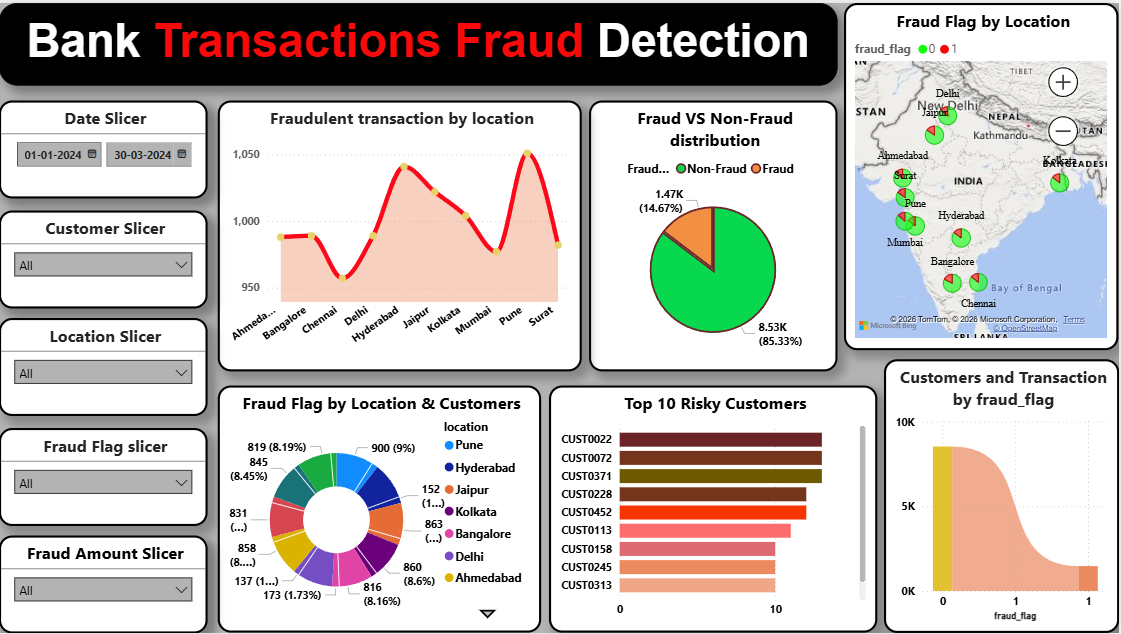

What the dashboard file says about the page in this screenshot:
{"tool":"powerbi","page":{"name":"Page 1","canvas":[1280,720],"ordinal":0},"visuals":[{"type":"pieChart","title":"Fraud VS Non-Fraud  distribution","fields":{"Category":["bank_transactions.Fraud Label"],"Y":["CountNonNull(bank_transactions.transaction_id)"]},"box":[674.4,111.6,283.7,309.3],"z":0},{"type":"clusteredBarChart","title":"Top 10 Risky Customers","fields":{"Category":["bank_transactions.customer_id"],"Y":["Sum(bank_transactions.fraud_flag)"]},"box":[627.9,437.2,375.6,282.6],"z":1000},{"type":"lineChart","title":"Fraudulent transaction by location","fields":{"Category":["bank_transactions.location"],"Y":["CountNonNull(bank_transactions.transaction_id)"]},"box":[250,111.6,416.3,309.3],"z":2000},{"type":"slicer","title":"Date Slicer","fields":{"Values":["DateTable.Date"]},"box":[0,111.6,238.4,112],"z":3000},{"type":"slicer","title":"Customer Slicer","fields":{"Values":["bank_transactions.customer_id"]},"box":[0,237.2,238.4,112],"z":4000},{"type":"slicer","title":"Location Slicer","fields":{"Values":["bank_transactions.location"]},"box":[0,360.5,238.4,112],"z":5000},{"type":"slicer","title":"Fraud Flag slicer","fields":{"Values":["bank_transactions.fraud_flag"]},"box":[0,485,238.4,111.6],"z":6000},{"type":"donutChart","title":"Fraud Flag by Location & Customers","fields":{"Y":["CountNonNull(bank_transactions.transaction_id)"],"Category":["bank_transactions.location"],"Series":["bank_transactions.fraud_flag"]},"box":[250,437.2,369.8,282.6],"z":7000},{"type":"textbox","box":[0,0,958.1,94.2],"z":8000},{"type":"slicer","title":"Fraud  Amount Slicer","fields":{"Values":["bank_transactions.amount","bank_transactions.Fraud Label"]},"box":[0,608.1,238.4,111.6],"z":9000},{"type":"map","title":"Fraud Flag by Location","fields":{"Category":["bank_transactions.location"],"Series":["bank_transactions.fraud_flag"],"Size":["CountNonNull(bank_transactions.customer_id)"]},"box":[966.3,0,314,396.5],"z":10000},{"type":"ribbonChart","title":"Customers and Transaction by fraud_flag","fields":{"Category":["bank_transactions.fraud_flag"],"Y":["CountNonNull(bank_transactions.customer_id)"]},"box":[1011.6,407,268.6,312.8],"z":11000}]}

Visuals, with their boxes in screenshot pixels (x1, y1, x2, y2), scaled from the page's 1280x720 canvas onto the 1121x634 screenshot:
"Fraud VS Non-Fraud  distribution" pieChart: (591, 98, 839, 371)
"Top 10 Risky Customers" clusteredBarChart: (550, 385, 879, 633)
"Fraudulent transaction by location" lineChart: (219, 98, 584, 371)
"Date Slicer" slicer: (0, 98, 209, 197)
"Customer Slicer" slicer: (0, 209, 209, 307)
"Location Slicer" slicer: (0, 317, 209, 416)
"Fraud Flag slicer" slicer: (0, 427, 209, 525)
"Fraud Flag by Location & Customers" donutChart: (219, 385, 543, 633)
textbox: (0, 0, 839, 83)
"Fraud  Amount Slicer" slicer: (0, 535, 209, 633)
"Fraud Flag by Location" map: (846, 0, 1120, 349)
"Customers and Transaction by fraud_flag" ribbonChart: (886, 358, 1120, 633)
